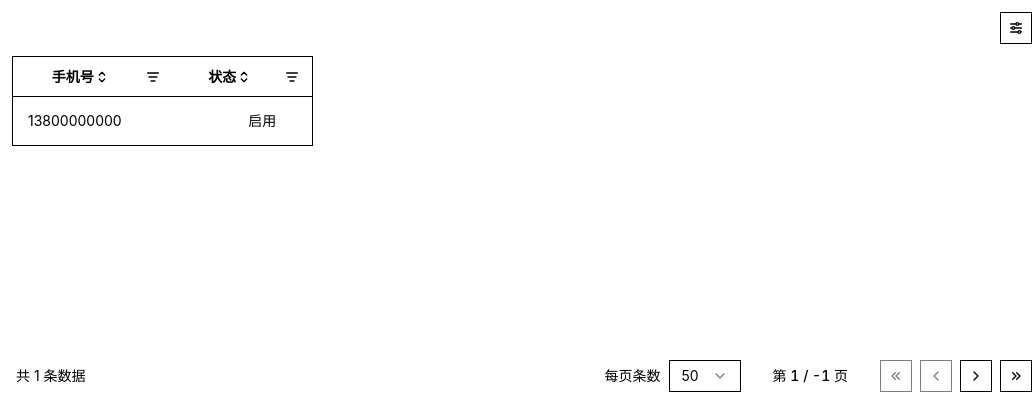
Scenario: DataTable editable input and switch cells › edits text in place and commits with Enter
Click the cell "13800000000": (92, 121) [12,97,172,145]
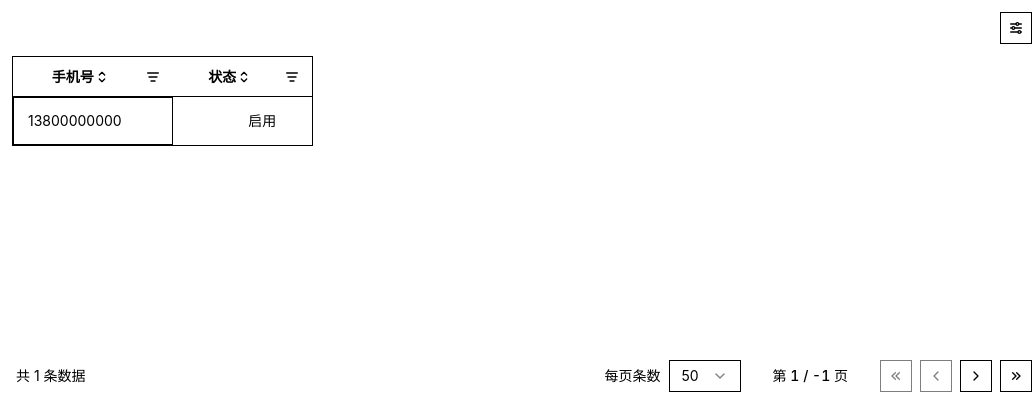
Double-click the cell "13800000000": (92, 121) [12,97,172,145]
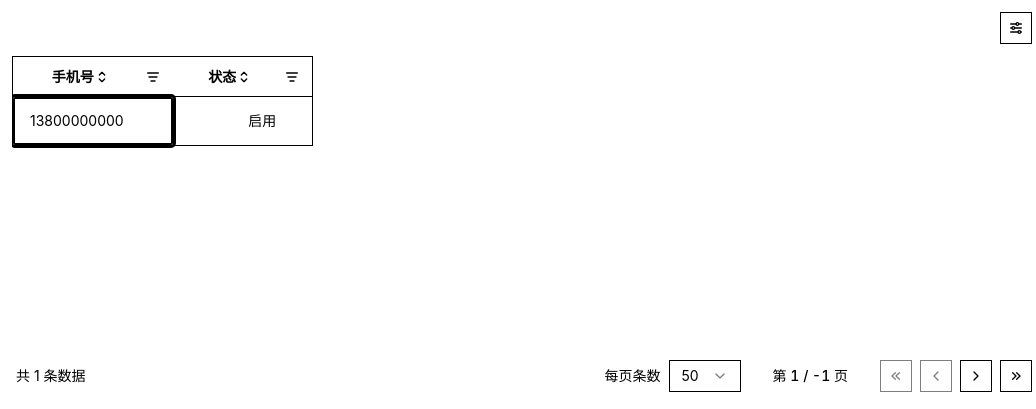
Now the field named "编辑手机号" holds "13800000000"
Replace the text in the field named "编辑手机号" with "13900000000": (93, 121) [13,97,172,144]
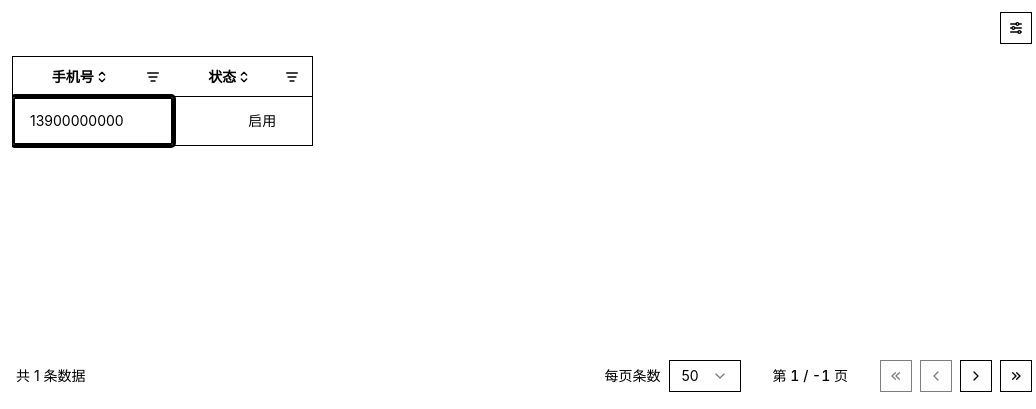
Press Enter
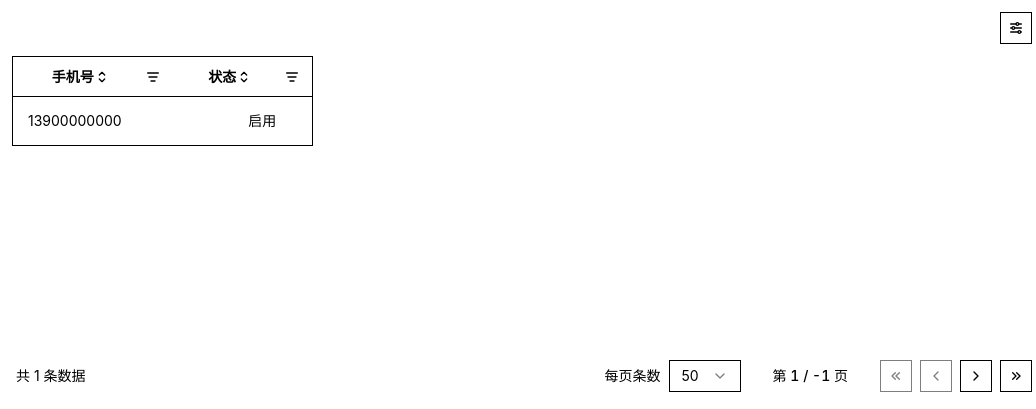
Now the cell "13900000000" is shown, box [12,97,172,145]
Now the field labelled "编辑手机号" is gone
